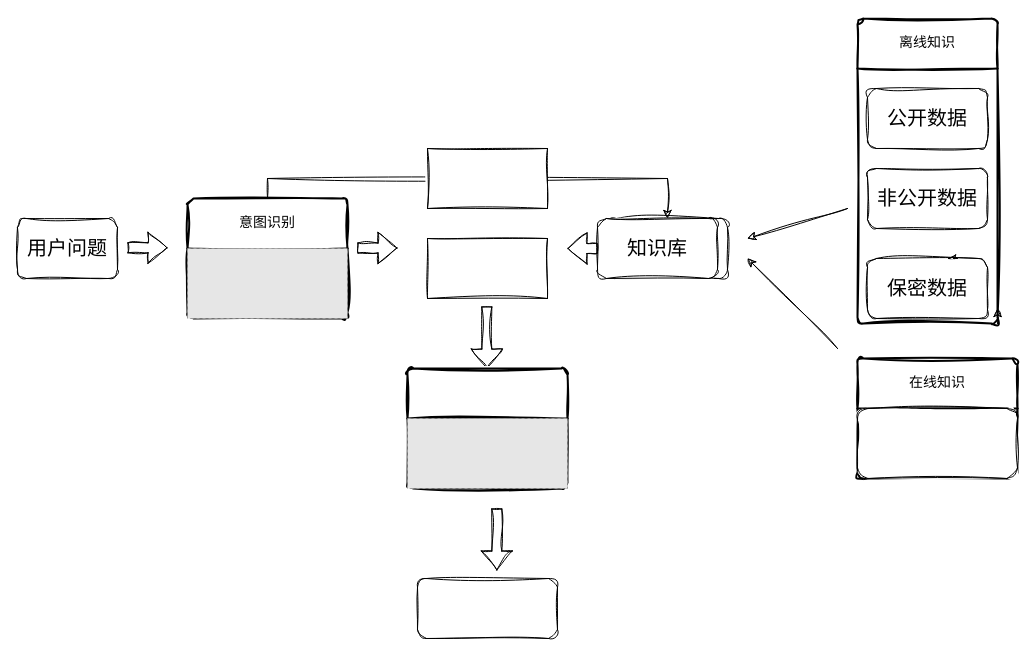
This 1036x656 diagram has some shape labels left out. Grey dashed boxes stand in for pictures. The shapes that lost their labels are listed below. From the top down, each one's box as (x1, y1, x2, y2) in pixels, then its label:
(426, 148, 548, 208): 实体连接 文档召回
(426, 238, 548, 298): prompt
(406, 367, 568, 489): 回答/推理
(856, 408, 1018, 478): 用户上传知识
(416, 578, 558, 638): respond
